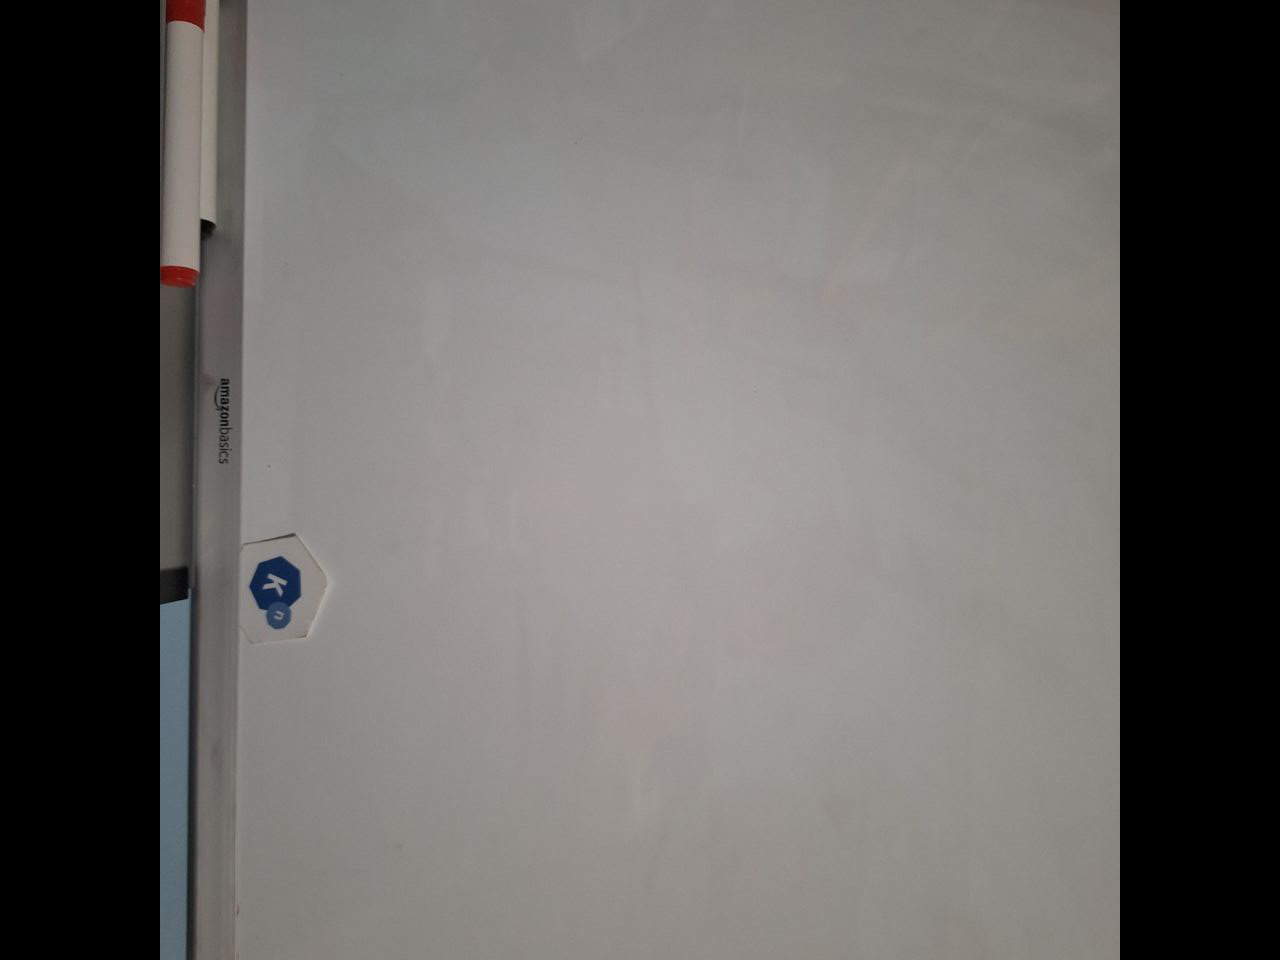knative: (248, 553, 302, 632)
